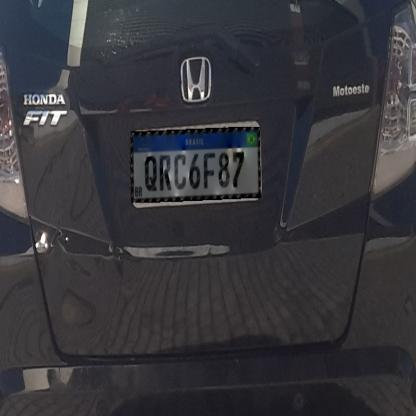PlacaM: (131, 127, 261, 203)
